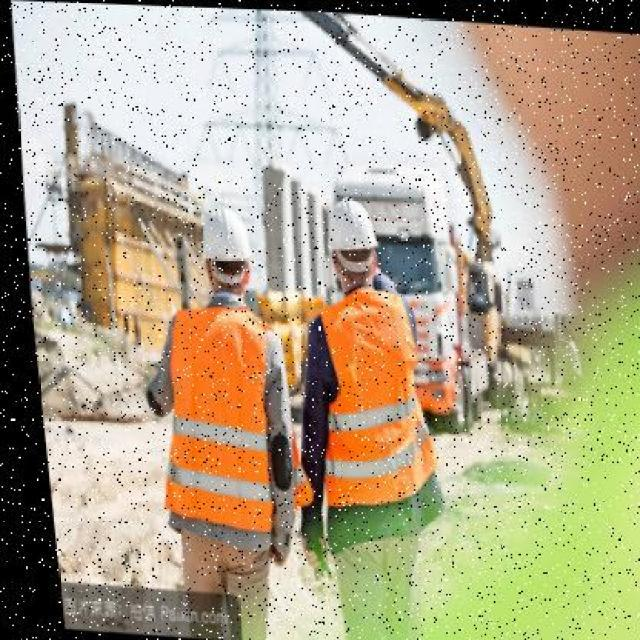helmet: (316, 196, 381, 258), (188, 202, 248, 264)
vest: (140, 291, 282, 544), (295, 279, 439, 515)
